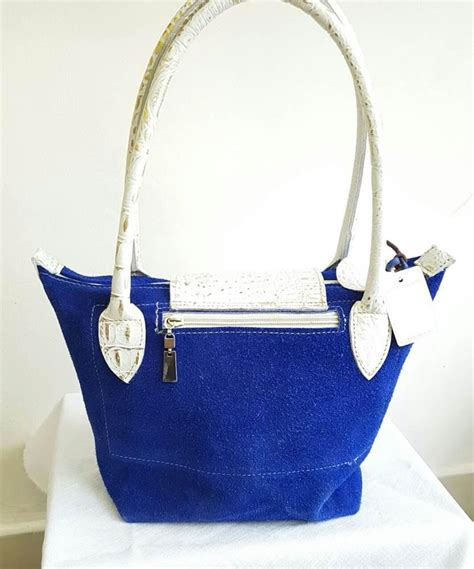gamuza: (30, 253, 453, 524)
